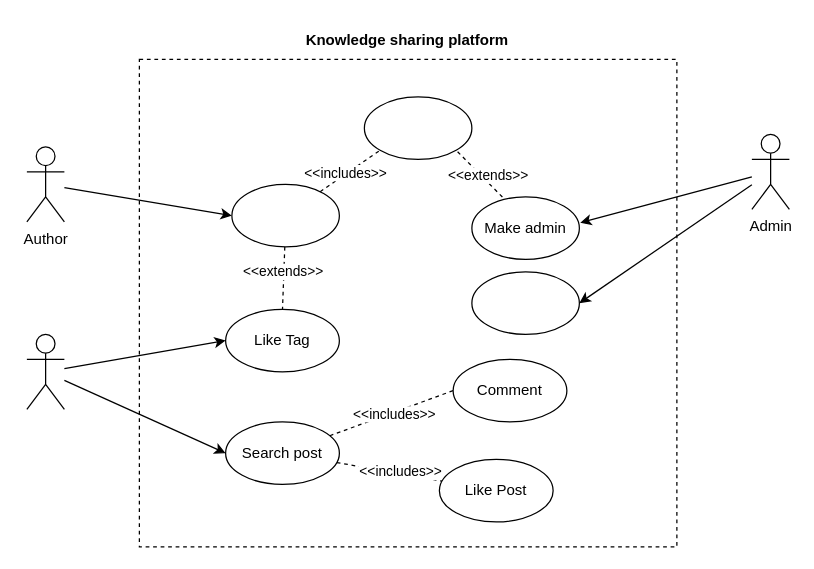
The diagram is 814 pixels wide and 569 high, and some of its shapes have lost their labels. Here are the shapes that lost their labels. From the top down, the box of each, then its label:
(363, 96, 472, 159): Delete post
(231, 183, 339, 247): Create post
(471, 271, 579, 334): Delete tag
(26, 333, 64, 409): Reader
